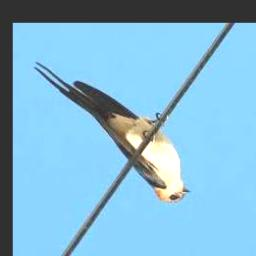Swallow: (33, 61, 191, 203)
